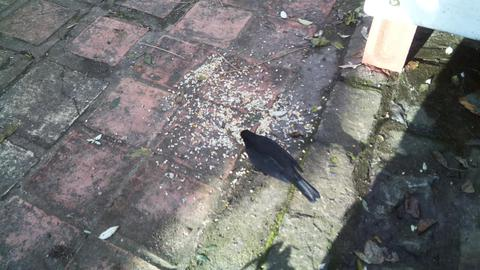blackbird: (240, 129, 321, 203)
